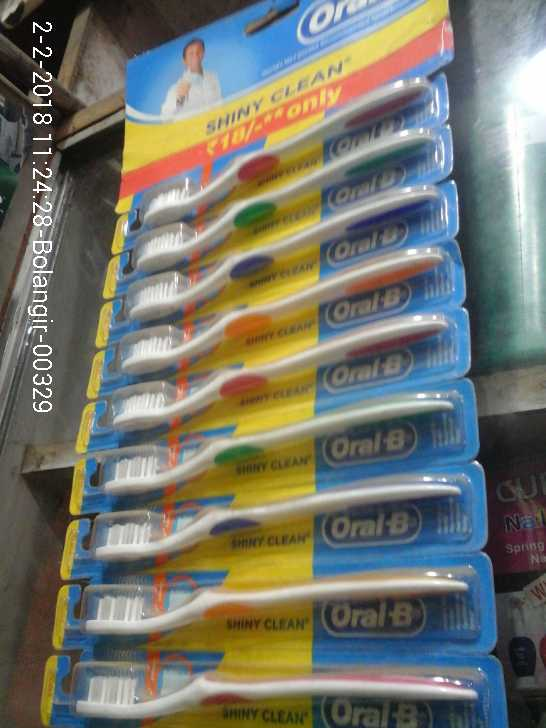oralb: (97, 385, 464, 483), (99, 469, 469, 555), (76, 565, 490, 632)
